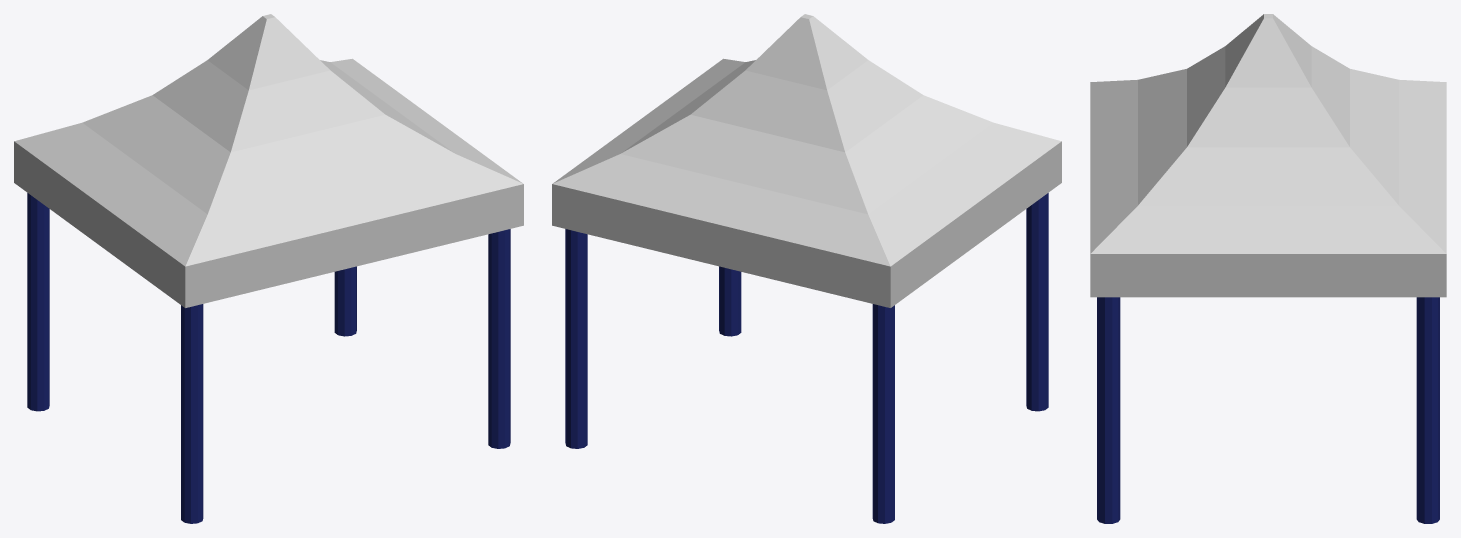
File: Roof.glb
3 views of the same model, side by side, from view 1: azimuth 30°, elevation 25°; view 2: azimuth 150°, elevation 25°; view 3: azimuth 270°, elevation 25° (orthographic). The views are drawn at different scales.
Parts seen in each view (by area): view 1: Tent01_Cylinder; view 2: Tent01_Cylinder; view 3: Tent01_Cylinder.
Boxes of the visible parts, x1,y1,x2,y2 form: Tent01_Cylinder: [14, 14, 523, 523]; Tent01_Cylinder: [552, 14, 1061, 523]; Tent01_Cylinder: [1090, 14, 1446, 523].
Size of the model in its own units: 33.06 by 38.16 by 28.96.
